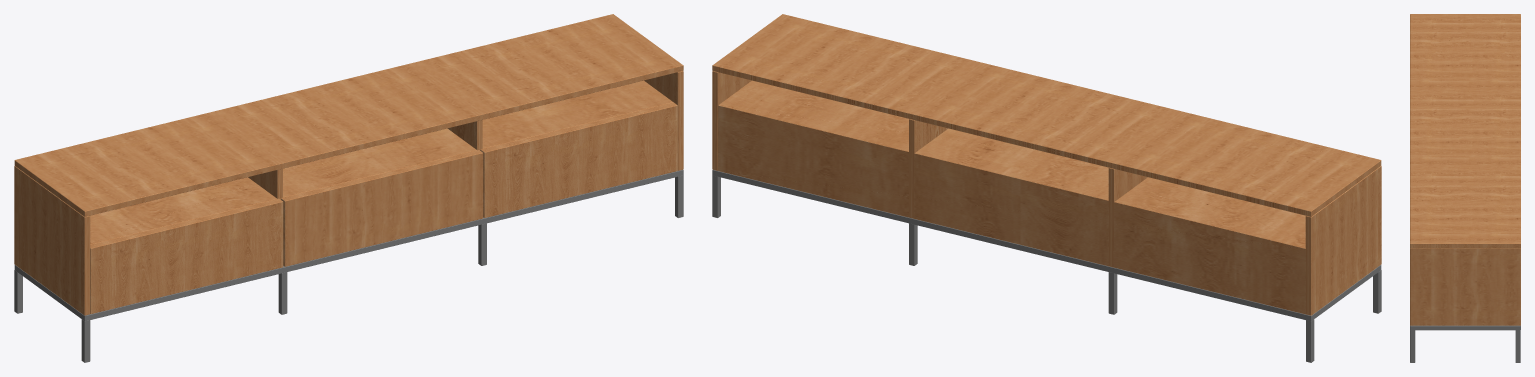
The model's file is rack_fbx.fbx.
3 renders of one model, left to right at view 1: azimuth 30°, elevation 25°; view 2: azimuth 150°, elevation 25°; view 3: azimuth 270°, elevation 25°, orthographic. The views are drawn at different scales.
Parts seen in each view (by area): view 1: pCube308, pCube317, pCube318, pCube315, pCube319, pCube316, pCube309, pCube328, pCube314, pCube310; view 2: pCube317, pCube308, pCube316, pCube309, pCube314, pCube328, pCube310; view 3: pCube308, pCube310, pCube309, pCube328.
Part boxes in pixels (x1=…): pCube308: x1=14, y1=14, x2=683, y2=216; pCube317: x1=90, y1=80, x2=672, y2=244; pCube318: x1=281, y1=150, x2=483, y2=266; pCube315: x1=480, y1=102, x2=677, y2=217; pCube319: x1=90, y1=198, x2=283, y2=313; pCube316: x1=14, y1=166, x2=90, y2=315; pCube309: x1=14, y1=170, x2=683, y2=321; pCube328: x1=14, y1=175, x2=683, y2=362; pCube314: x1=248, y1=120, x2=482, y2=198; pCube310: x1=644, y1=71, x2=683, y2=170; pCube317: x1=718, y1=80, x2=1307, y2=314; pCube308: x1=712, y1=14, x2=1381, y2=216; pCube316: x1=1305, y1=166, x2=1381, y2=315; pCube309: x1=712, y1=170, x2=1381, y2=321; pCube314: x1=909, y1=119, x2=1147, y2=267; pCube328: x1=712, y1=175, x2=1381, y2=362; pCube310: x1=712, y1=71, x2=751, y2=170; pCube308: x1=1410, y1=14, x2=1520, y2=248; pCube310: x1=1410, y1=248, x2=1520, y2=325; pCube309: x1=1410, y1=325, x2=1520, y2=330; pCube328: x1=1410, y1=330, x2=1520, y2=362.
Bounding box in the file's own units: 1818 × 440 × 370.
Materials: 2 (1 with a texture image).
